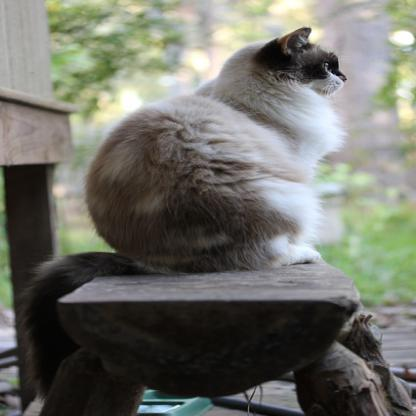cat: (21, 25, 348, 392)
